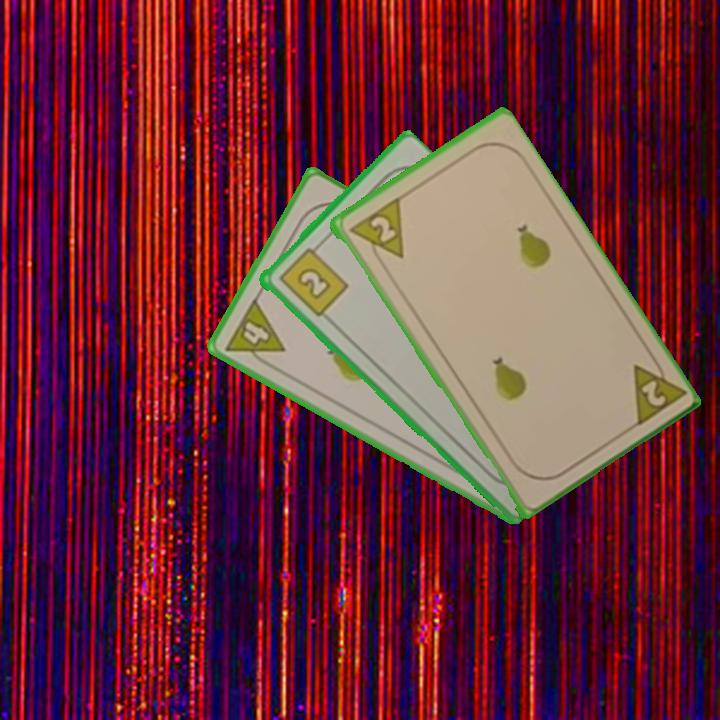2b: (274, 239, 351, 320)
2p: (628, 349, 686, 431), (345, 194, 407, 270)
4p: (221, 294, 288, 373)
